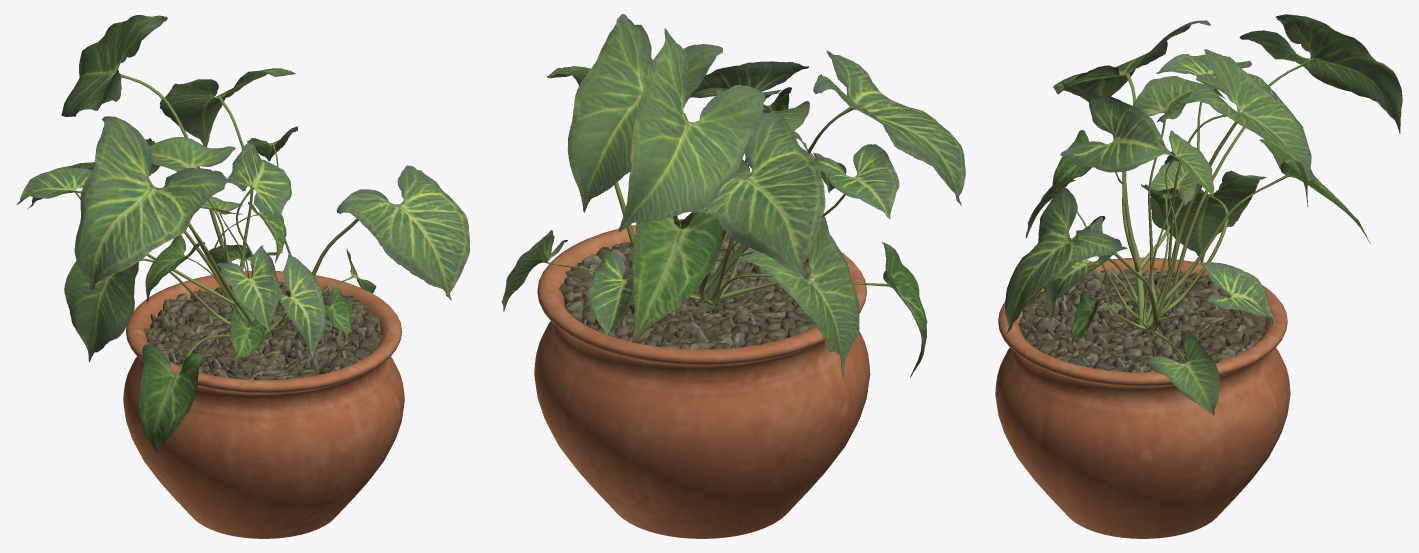
Rendered from potplant.glb.
3 renders of one model, left to right at view 1: azimuth 30°, elevation 25°; view 2: azimuth 150°, elevation 25°; view 3: azimuth 270°, elevation 25°, orthographic. The views are drawn at different scales.
Parts seen in each view (by area): view 1: potted_plant_02_leaves, potted_plant_02_pot; view 2: potted_plant_02_leaves, potted_plant_02_pot; view 3: potted_plant_02_pot, potted_plant_02_leaves.
Part boxes in pixels (bbox=[...]): potted_plant_02_leaves: bbox=[16, 15, 470, 452]; potted_plant_02_pot: bbox=[123, 271, 404, 538]; potted_plant_02_leaves: bbox=[502, 14, 965, 377]; potted_plant_02_pot: bbox=[534, 219, 870, 538]; potted_plant_02_pot: bbox=[995, 257, 1290, 538]; potted_plant_02_leaves: bbox=[1005, 14, 1402, 415].
Bounding box in the file's own units: 0.7012 × 0.8412 × 0.6574.
2 materials, 2 textured.
